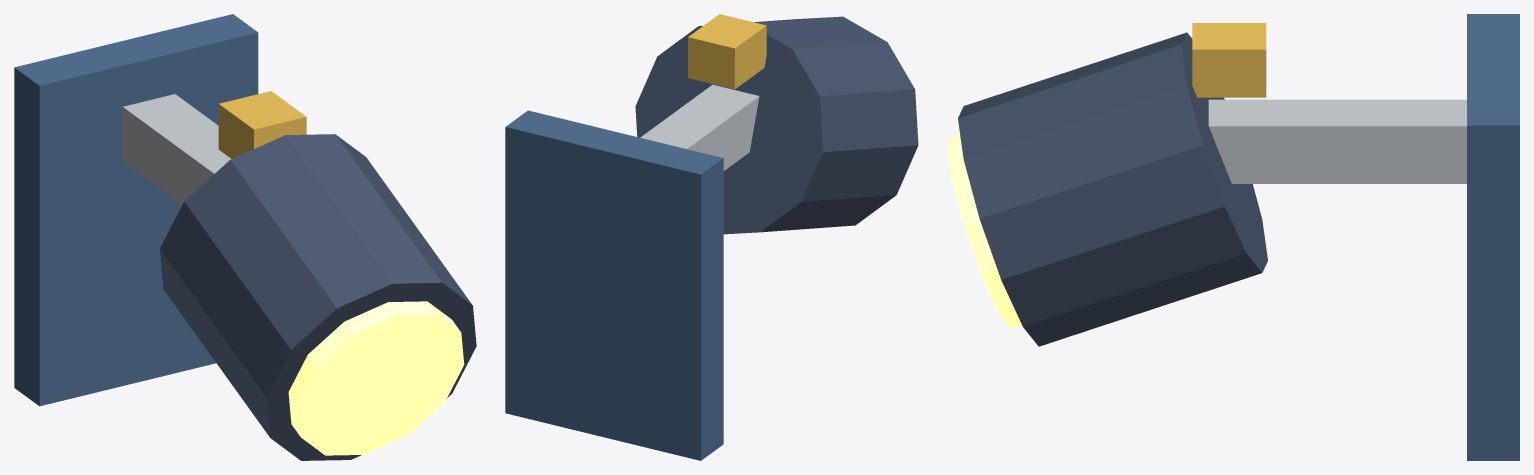
The model's file is floodlight_bracket.glb.
3 views of the same model, side by side, from view 1: azimuth 30°, elevation 25°; view 2: azimuth 150°, elevation 25°; view 3: azimuth 270°, elevation 25° (orthographic). The views are drawn at different scales.
Parts seen in each view (by area): view 1: floodlight_bracket_navy_frame, floodlight_bracket_graphite_navy, floodlight_bracket_emissive_amber, floodlight_bracket_titanium, floodlight_bracket_amber_accent; view 2: floodlight_bracket_navy_frame, floodlight_bracket_graphite_navy, floodlight_bracket_titanium, floodlight_bracket_amber_accent; view 3: floodlight_bracket_graphite_navy, floodlight_bracket_navy_frame, floodlight_bracket_titanium, floodlight_bracket_amber_accent, floodlight_bracket_emissive_amber.
Boxes of the visible parts, left/top/right/bottom form: floodlight_bracket_navy_frame: left=14, top=14, right=258, bottom=406; floodlight_bracket_graphite_navy: left=160, top=134, right=476, bottom=460; floodlight_bracket_emissive_amber: left=288, top=301, right=464, bottom=455; floodlight_bracket_titanium: left=122, top=94, right=231, bottom=204; floodlight_bracket_amber_accent: left=218, top=91, right=306, bottom=158; floodlight_bracket_navy_frame: left=505, top=110, right=723, bottom=460; floodlight_bracket_graphite_navy: left=635, top=16, right=918, bottom=234; floodlight_bracket_titanium: left=640, top=84, right=759, bottom=170; floodlight_bracket_amber_accent: left=688, top=14, right=766, bottom=89; floodlight_bracket_graphite_navy: left=958, top=32, right=1267, bottom=346; floodlight_bracket_navy_frame: left=1467, top=14, right=1519, bottom=460; floodlight_bracket_titanium: left=1208, top=99, right=1466, bottom=183; floodlight_bracket_amber_accent: left=1192, top=23, right=1266, bottom=97; floodlight_bracket_emissive_amber: left=947, top=135, right=1021, bottom=328.
Bounding box in the file's own units: 0.5 × 0.77 × 1.08.
